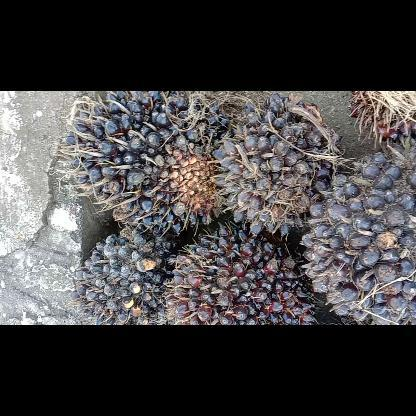TBS mentah: (57, 91, 239, 237), (299, 148, 415, 324), (212, 90, 346, 238), (165, 220, 325, 324), (70, 226, 182, 324)
